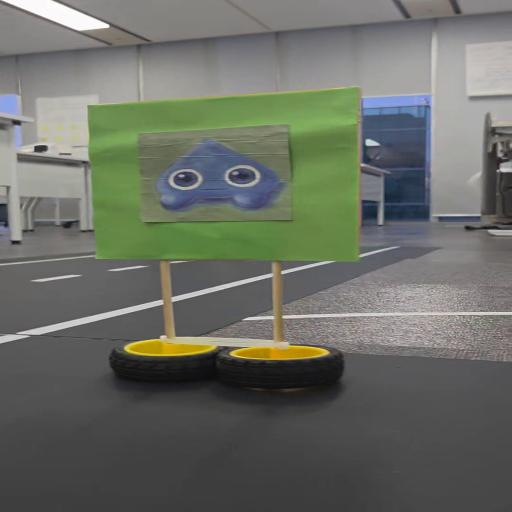Sign_B: (82, 97, 374, 395)
